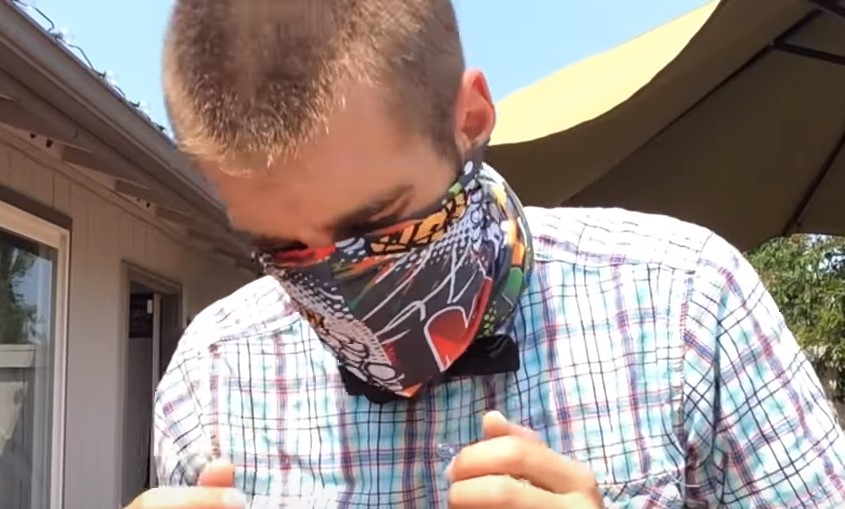face_with_mask: (152, 5, 504, 404)
